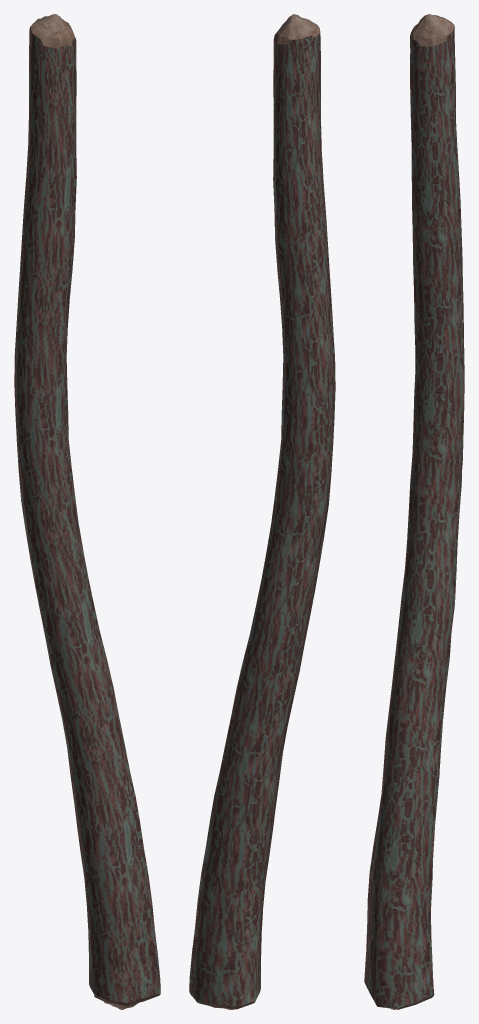
The picture shows the model from 3 angles, left to right: view 1: azimuth 30°, elevation 25°; view 2: azimuth 210°, elevation 25°; view 3: azimuth 270°, elevation 25°; orthographic projection. The views are drawn at different scales.
Visible parts, largest first — view 1: SM_MapleTree_01_full_LOD0; view 2: SM_MapleTree_01_full_LOD0; view 3: SM_MapleTree_01_full_LOD0.
Part boxes in pixels (x1=…): SM_MapleTree_01_full_LOD0: x1=14, y1=14, x2=160, y2=1009; SM_MapleTree_01_full_LOD0: x1=189, y1=14, x2=335, y2=1009; SM_MapleTree_01_full_LOD0: x1=364, y1=14, x2=464, y2=1009.
Size of the model in its own units: 1.16 by 9.7 by 0.9095.
Materials: 1 (1 with a texture image).
